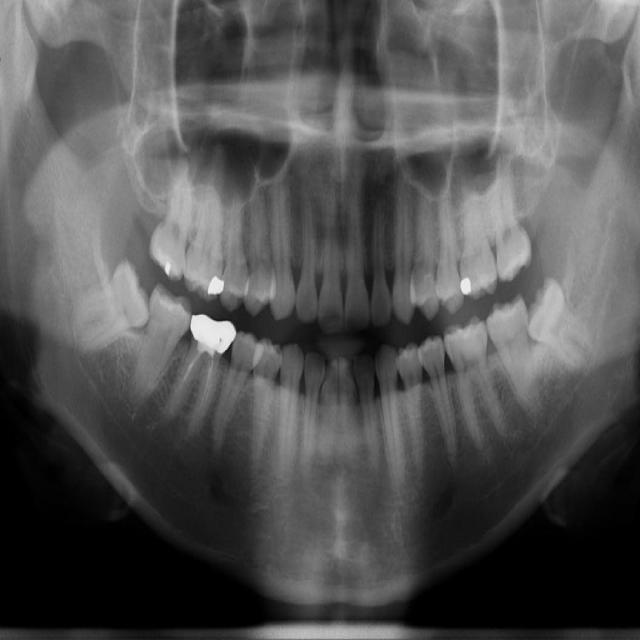Crown: (190, 313, 237, 360)
Filling: (205, 274, 227, 298), (456, 274, 477, 298), (163, 252, 181, 279)
Root Canal Treatment: (168, 358, 202, 408), (169, 358, 199, 406)
impacted tooth: (74, 260, 155, 357), (525, 278, 588, 370)
